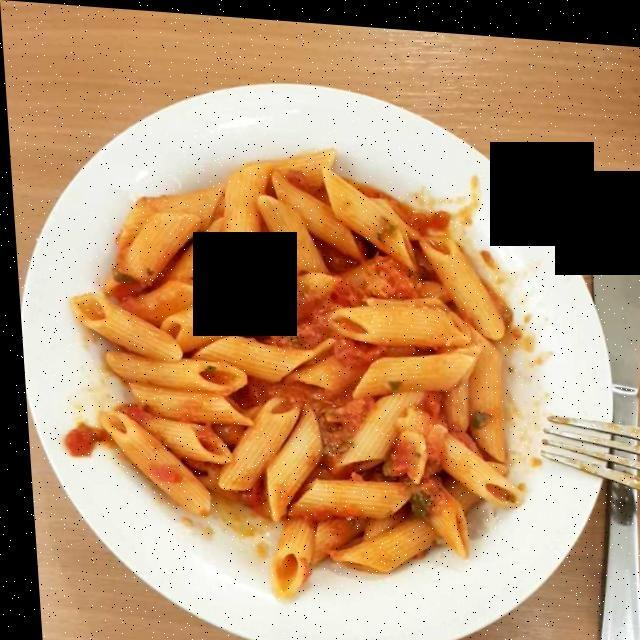pasta: (90, 144, 520, 586)
tomato-sauce: (72, 175, 472, 506)
